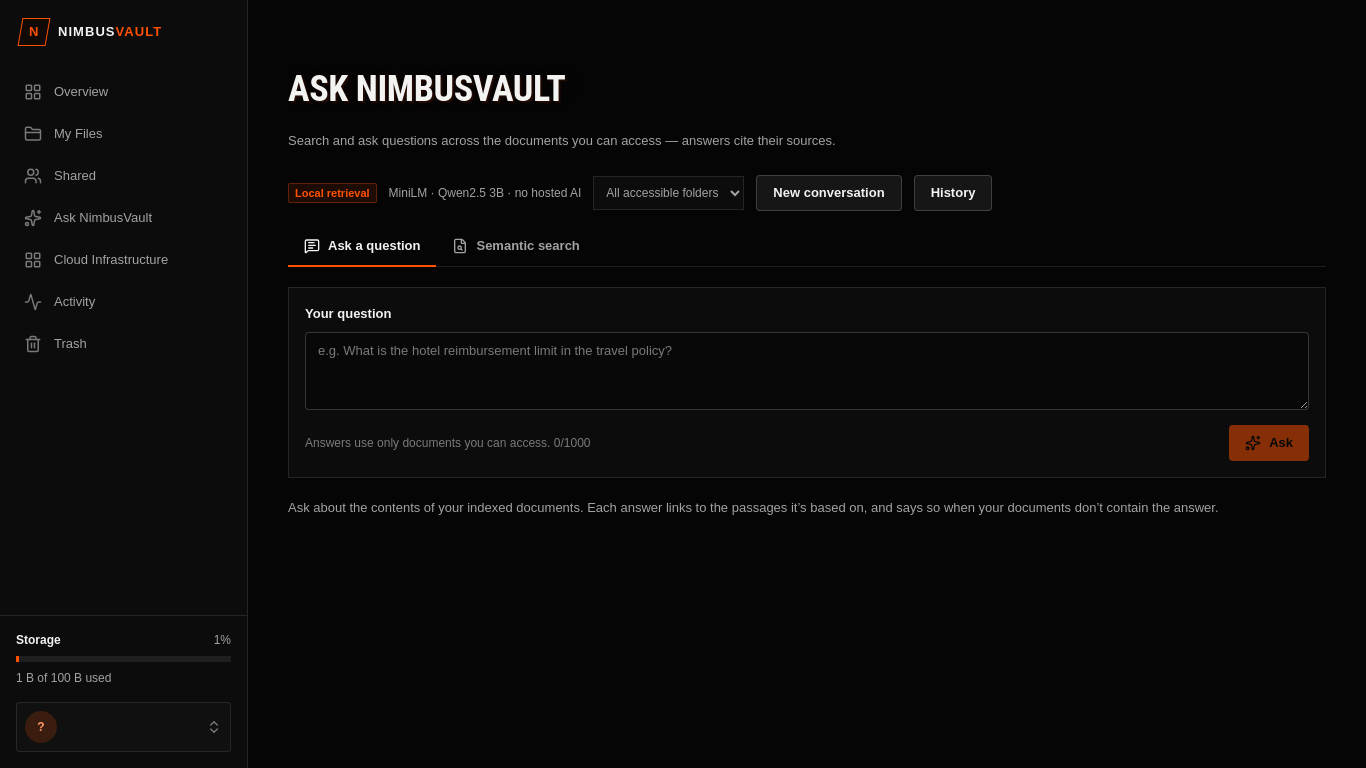
Test: AskPage › distinguishes insufficient evidence from an answer
Replace the text in the text box labelled "Your question" with "What is the parking policy?" at (807, 371), box [305,332,1309,410]
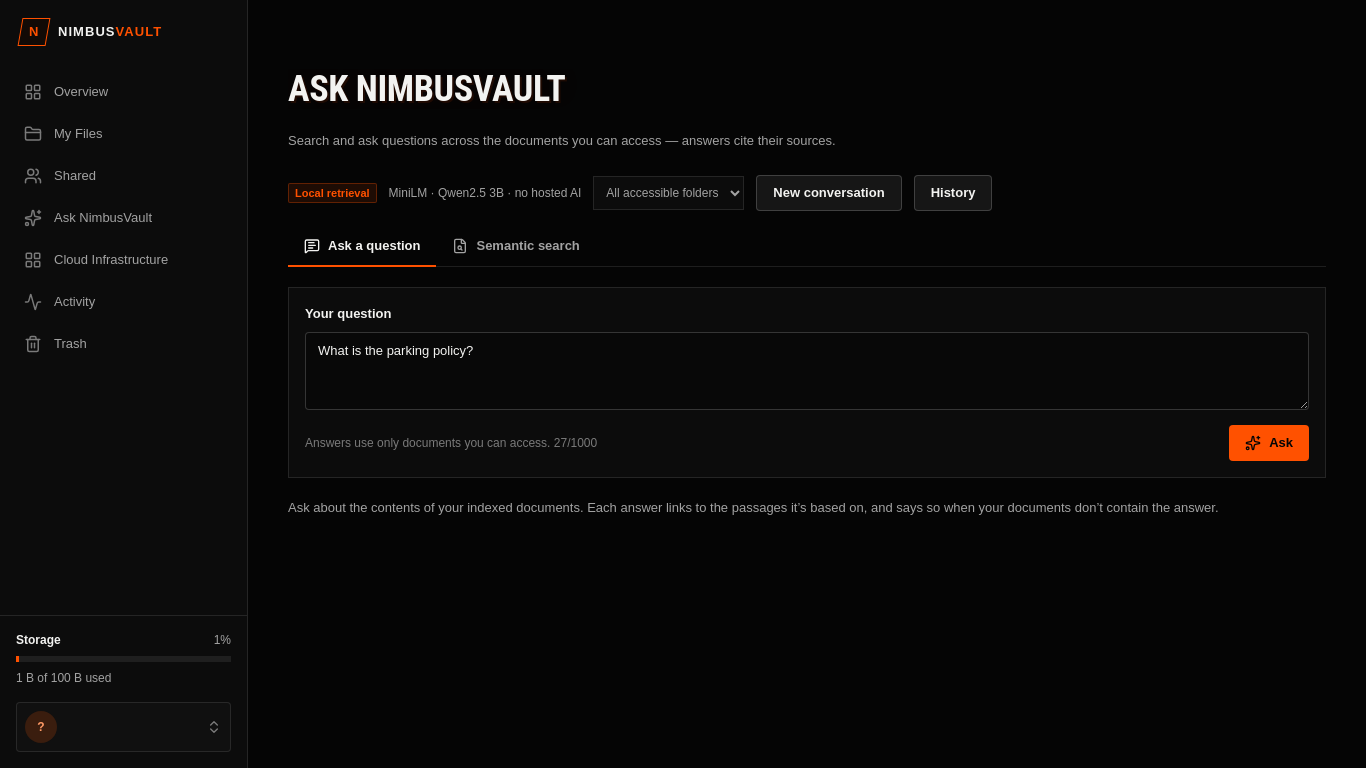
Click the button "Ask" at (1269, 443), box [1229,425,1309,461]
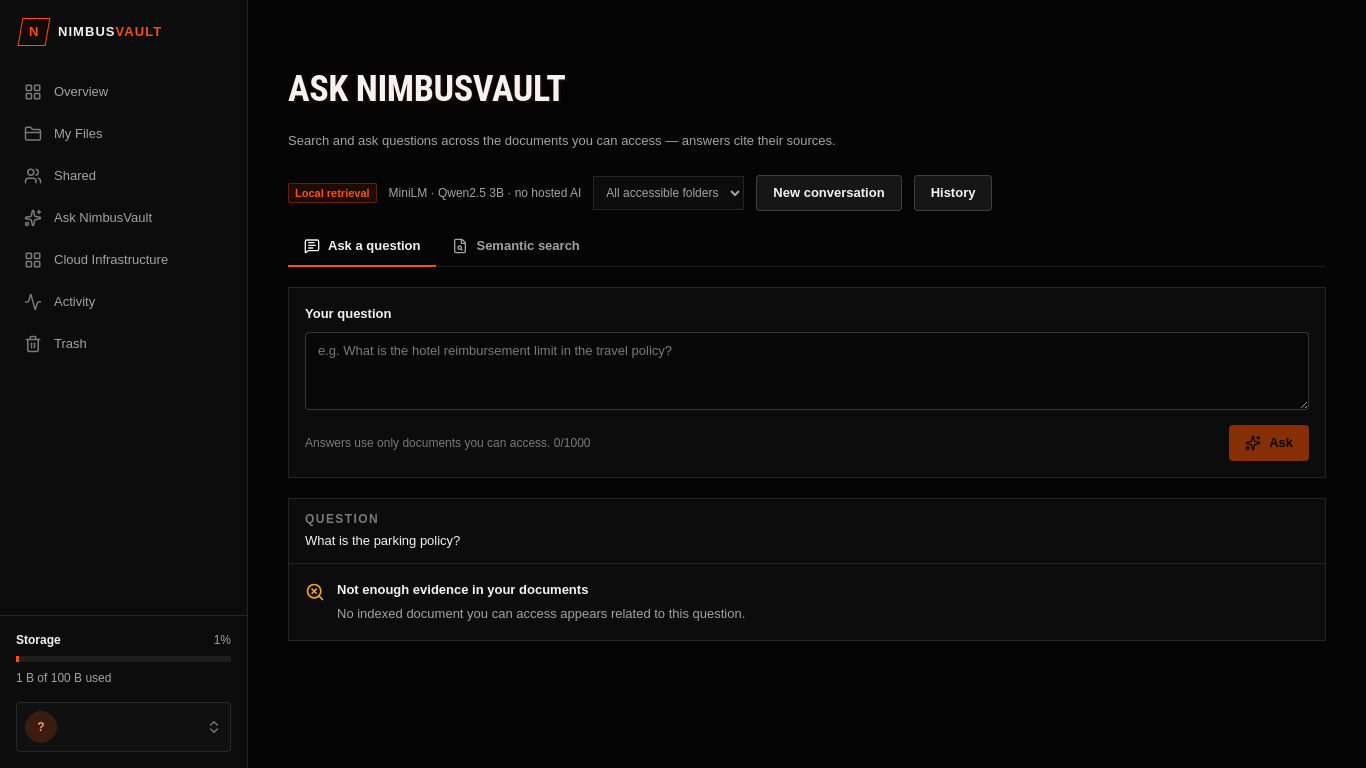
Check: the text "Not enough evidence in your documents" is shown, box [337,582,588,597]
